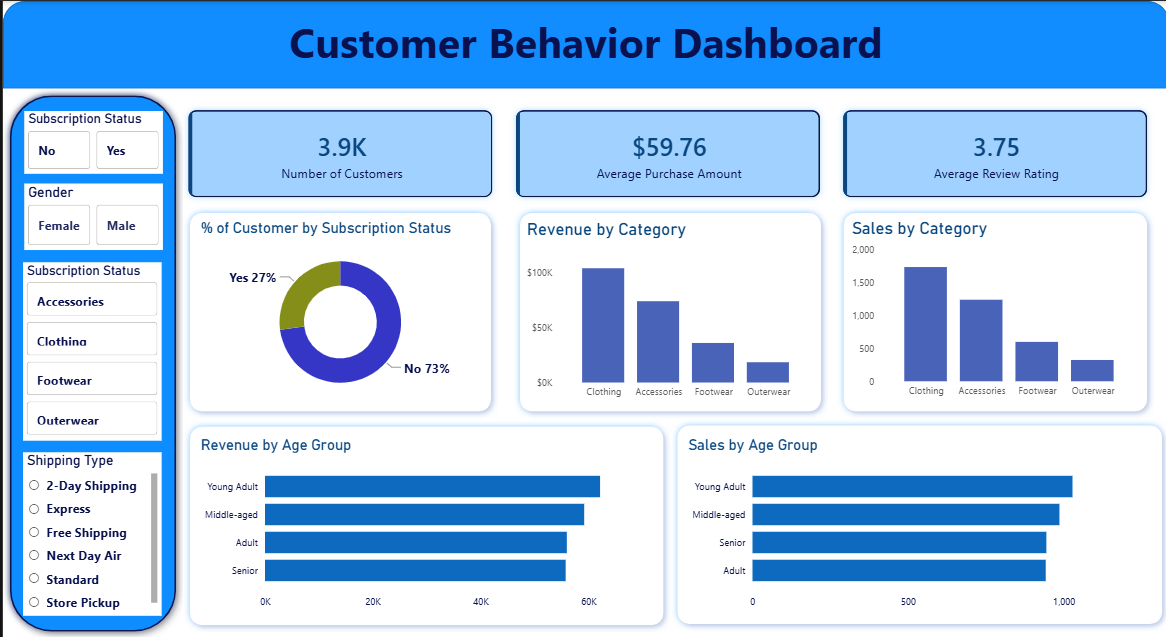

The dashboard page shown, as its layout file describes it:
{"tool":"powerbi","page":{"name":"Page 1","canvas":[1500,820],"ordinal":0},"visuals":[{"type":"cardVisual","fields":{"Data":["public customer.Number of Customers","public customer.Average Purchase Amount","public customer.Average Review Rating"]},"box":[210.7,112.6,1289.7,168.8],"z":0},{"type":"shape","box":[0,0,1500.3,112.6],"z":1000},{"type":"textbox","box":[0,11.3,1500.3,101.3],"z":2000},{"type":"shape","box":[231.6,263.7,405.2,273.4],"z":3000},{"type":"donutChart","title":"% of Customer by Subscription Status","fields":{"Category":["public customer.subscription_status"],"Y":["CountNonNull(public customer.customer_id)"]},"box":[249.3,281.4,369.9,239.6],"z":4000},{"type":"shape","box":[656.1,263.7,405.2,273.4],"z":5000},{"type":"shape","box":[1072.6,263.7,408.4,273.4],"z":6000},{"type":"clusteredColumnChart","title":"Revenue by Category","fields":{"Y":["Sum(public customer.purchase_amount)"],"Category":["public customer.category"]},"box":[669,281.4,377.9,239.6],"z":7000},{"type":"clusteredColumnChart","title":"Sales by Category","fields":{"Category":["public customer.category"],"Y":["CountNonNull(public customer.customer_id)"]},"box":[1087.1,279.8,377.9,239.6],"z":8000},{"type":"shape","box":[0,112.6,231.6,707.5],"z":9000},{"type":"advancedSlicerVisual","title":"Subscription Status","fields":{"Values":["public customer.subscription_status"]},"box":[27.3,141.5,178.5,80.4],"z":10000},{"type":"advancedSlicerVisual","title":"Gender","fields":{"Values":["public customer.gender"]},"box":[27.3,234.8,178.5,85.2],"z":11000},{"type":"advancedSlicerVisual","title":"Subscription Status","fields":{"Values":["public customer.category"]},"box":[25.7,336.1,178.5,230],"z":12000},{"type":"listSlicer","title":"Shipping Type","fields":{"Values":["public customer.shipping_type"]},"box":[25.7,580.5,178.5,210.7],"z":13000},{"type":"clusteredBarChart","title":"Revenue by Age Group","fields":{"Category":["public customer.age_groups"],"Y":["Sum(public customer.purchase_amount)"]},"box":[249.3,558,588.6,231.6],"z":14000},{"type":"shape","box":[231.6,538.7,627.1,273.4],"z":15000},{"type":"shape","box":[858.7,537.1,641.6,273.4],"z":15001},{"type":"clusteredBarChart","title":"Sales by Age Group","fields":{"Category":["public customer.age_groups"],"Y":["CountNonNull(public customer.customer_id)"]},"box":[876.4,559.6,588.6,231.6],"z":15002},{"type":"clusteredBarChart","title":"Revenue by Age Group","fields":{"Category":["public customer.age_groups"],"Y":["Sum(public customer.purchase_amount)"]},"box":[249.3,559.6,588.6,231.6],"z":15003}]}

Visuals, with their boxes in screenshot pixels (x1, y1, x2, y2), scaled from the page's 1500x820 canvas onto the 1166x637 screenshot:
cardVisual - public customer.Number of Customers x public customer.Average Purchase Amount: 164:87:1165:219
shape: 0:0:1165:87
textbox: 0:9:1165:87
shape: 180:205:495:417
"% of Customer by Subscription Status" donutChart: 194:219:481:405
shape: 510:205:825:417
shape: 834:205:1151:417
"Revenue by Category" clusteredColumnChart: 520:219:814:405
"Sales by Category" clusteredColumnChart: 845:217:1139:403
shape: 0:87:180:636
"Subscription Status" advancedSlicerVisual: 21:110:160:172
"Gender" advancedSlicerVisual: 21:182:160:249
"Subscription Status" advancedSlicerVisual: 20:261:159:440
"Shipping Type" listSlicer: 20:451:159:615
"Revenue by Age Group" clusteredBarChart: 194:433:651:613
shape: 180:418:667:631
shape: 667:417:1165:630
"Sales by Age Group" clusteredBarChart: 681:435:1139:615
"Revenue by Age Group" clusteredBarChart: 194:435:651:615
